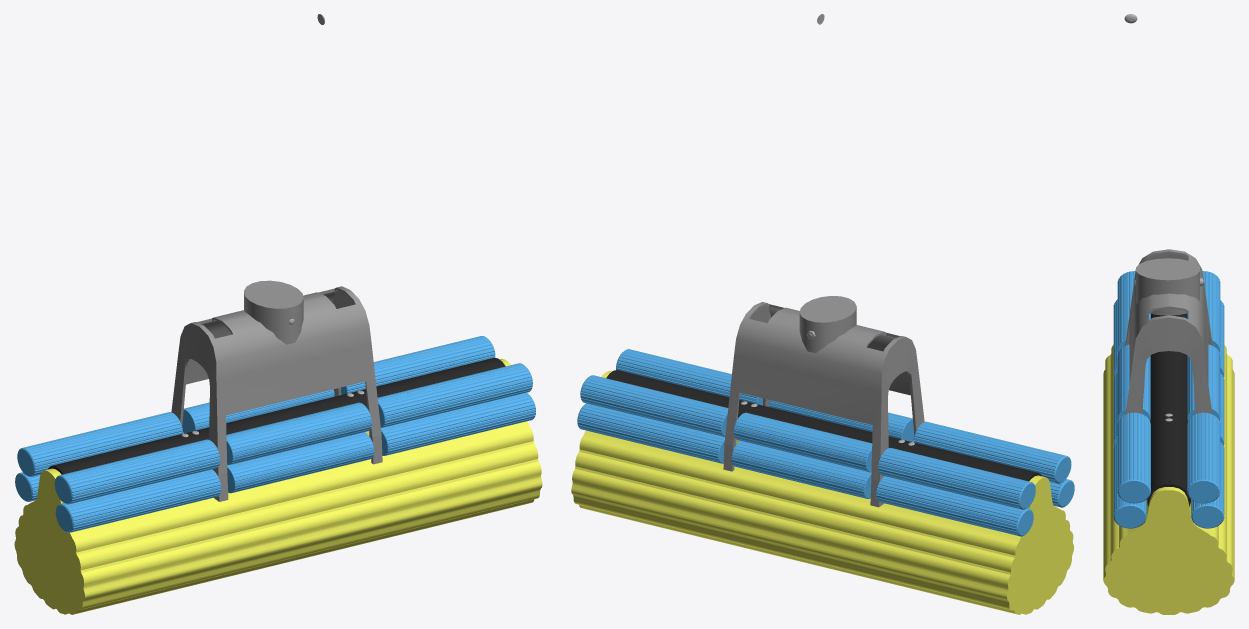
File: cleaning_tool.dae
The picture shows the model from 3 angles, left to right: view 1: azimuth 30°, elevation 25°; view 2: azimuth 150°, elevation 25°; view 3: azimuth 270°, elevation 25°; orthographic projection. The views are drawn at different scales.
Visible parts, largest first — view 1: Cylinder010, Box004, Cylinder031, Cylinder028, Cylinder029, Cylinder034, Cylinder030, Cylinder032, Cylinder033, Cylinder024, Cylinder022, Cylinder036 (+1 smaller); view 2: Cylinder010, Box004, Cylinder024, Cylinder028, Cylinder022, Cylinder027, Cylinder023, Cylinder025, Cylinder031, Cylinder026, Cylinder029, Cylinder036 (+1 smaller); view 3: Cylinder010, Box004, Cylinder028, Cylinder022, Cylinder029, Cylinder036, Cylinder023, Cylinder030, Cylinder025, Cylinder032, Cylinder031, Cylinder024 (+4 smaller).
Boxes of the visible parts, box(x1,y1,x2,y2) form: Cylinder010: box(14, 358, 542, 614); Box004: box(171, 286, 382, 501); Cylinder031: box(54, 439, 220, 504); Cylinder028: box(48, 358, 505, 474); Cylinder029: box(367, 363, 532, 427); Cylinder034: box(55, 469, 221, 532); Cylinder030: box(226, 402, 371, 464); Cylinder032: box(381, 392, 535, 455); Cylinder033: box(227, 432, 374, 493); Cylinder024: box(17, 412, 182, 476); Cylinder022: box(341, 336, 495, 394); Cylinder036: box(244, 280, 303, 344); Cylinder010: box(571, 371, 1073, 614); Box004: box(723, 302, 924, 507); Cylinder024: box(878, 448, 1035, 509); Cylinder028: box(606, 370, 1041, 481); Cylinder022: box(580, 375, 728, 436); Cylinder027: box(876, 476, 1033, 536); Cylinder023: box(733, 412, 872, 472); Cylinder025: box(577, 403, 724, 463); Cylinder031: box(913, 421, 1071, 483); Cylinder026: box(731, 440, 871, 498); Cylinder029: box(616, 349, 762, 405); Cylinder036: box(799, 296, 856, 353); Cylinder010: box(1103, 345, 1234, 614); Box004: box(1125, 249, 1212, 414); Cylinder028: box(1147, 313, 1190, 506); Cylinder022: box(1187, 412, 1220, 503); Cylinder029: box(1117, 412, 1150, 503); Cylinder036: box(1136, 258, 1199, 315); Cylinder023: box(1187, 344, 1220, 420); Cylinder030: box(1117, 344, 1150, 420); Cylinder025: box(1191, 442, 1224, 528); Cylinder032: box(1113, 442, 1146, 528); Cylinder031: box(1117, 271, 1150, 352); Cylinder024: box(1187, 271, 1220, 352).
Bounding box in the file's own units: 0.2178 × 0.0573 × 0.2449.
